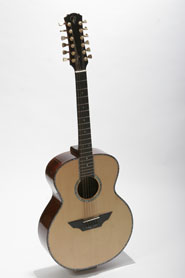guitar: (36, 11, 136, 272)
